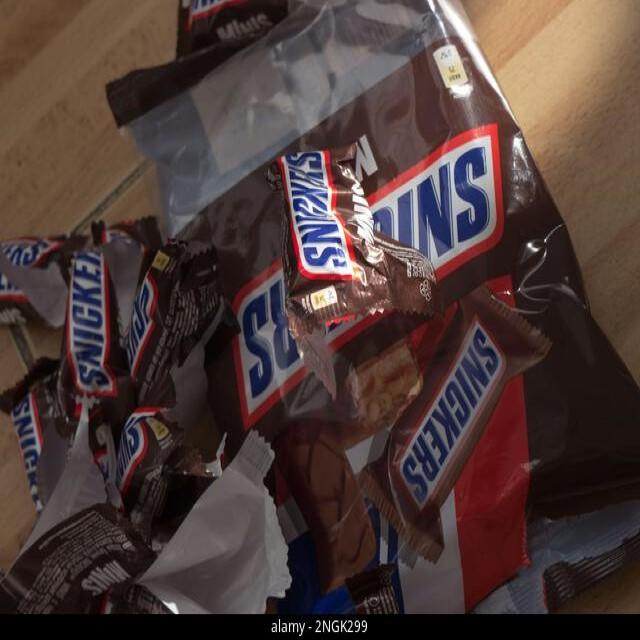snickers_chocolate: (237, 122, 508, 350), (46, 232, 142, 420), (433, 324, 492, 538)
